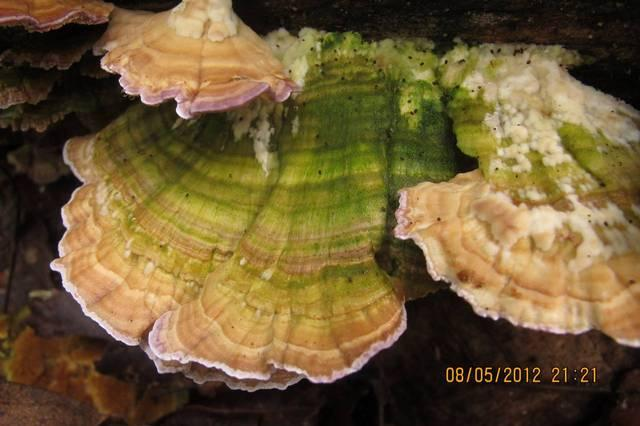Non-edible Mushroom: (19, 0, 640, 370), (91, 0, 299, 120)
